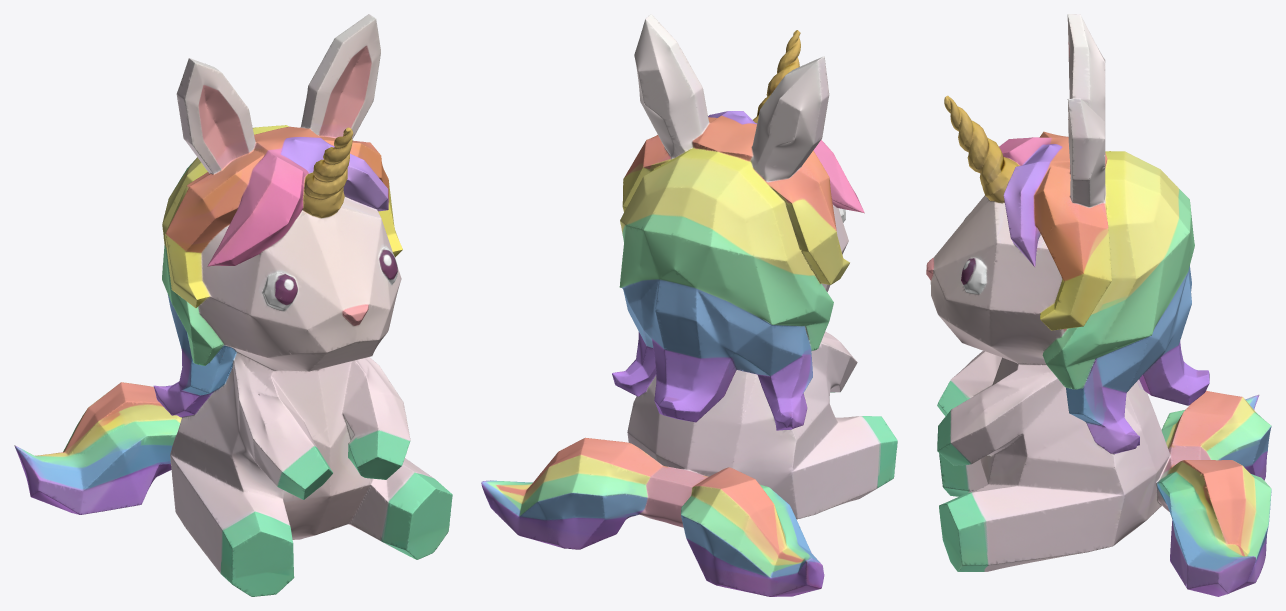
Rendered from MSB-Unicorn.glb.
3 renders of one model, left to right at view 1: azimuth 30°, elevation 25°; view 2: azimuth 150°, elevation 25°; view 3: azimuth 270°, elevation 25°, orthographic. The views are drawn at different scales.
Bounding box in the file's own units: 1.37 × 1.9 × 1.25.
1 material, 1 textured.
